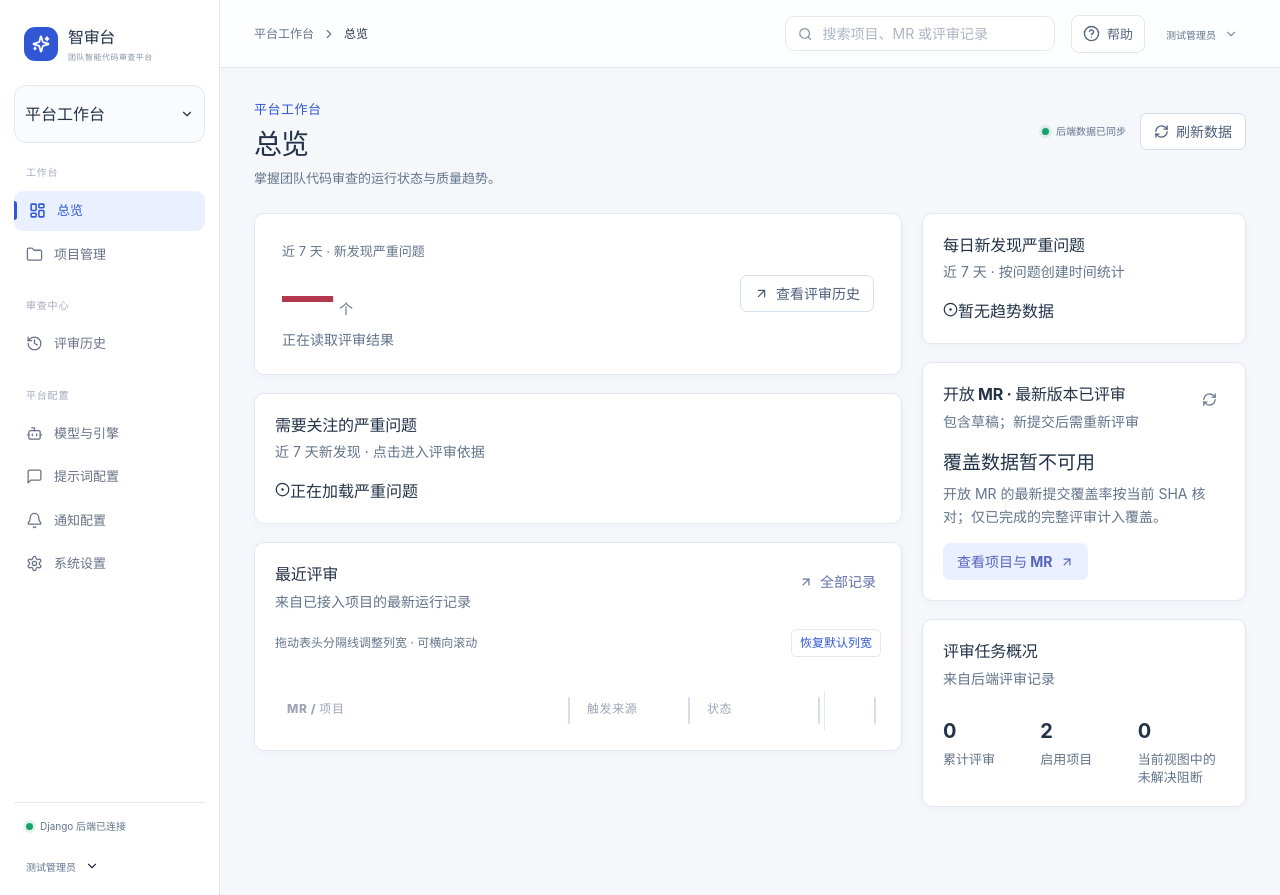
Test: does not replace current project form with a late save response from another project
Check: the text "Django 后端已连接" is shown, box top-left (26, 820), bottom-right (126, 832)
Click the button "模型与引擎".
click(110, 433)  # box top-left (14, 414), bottom-right (205, 453)
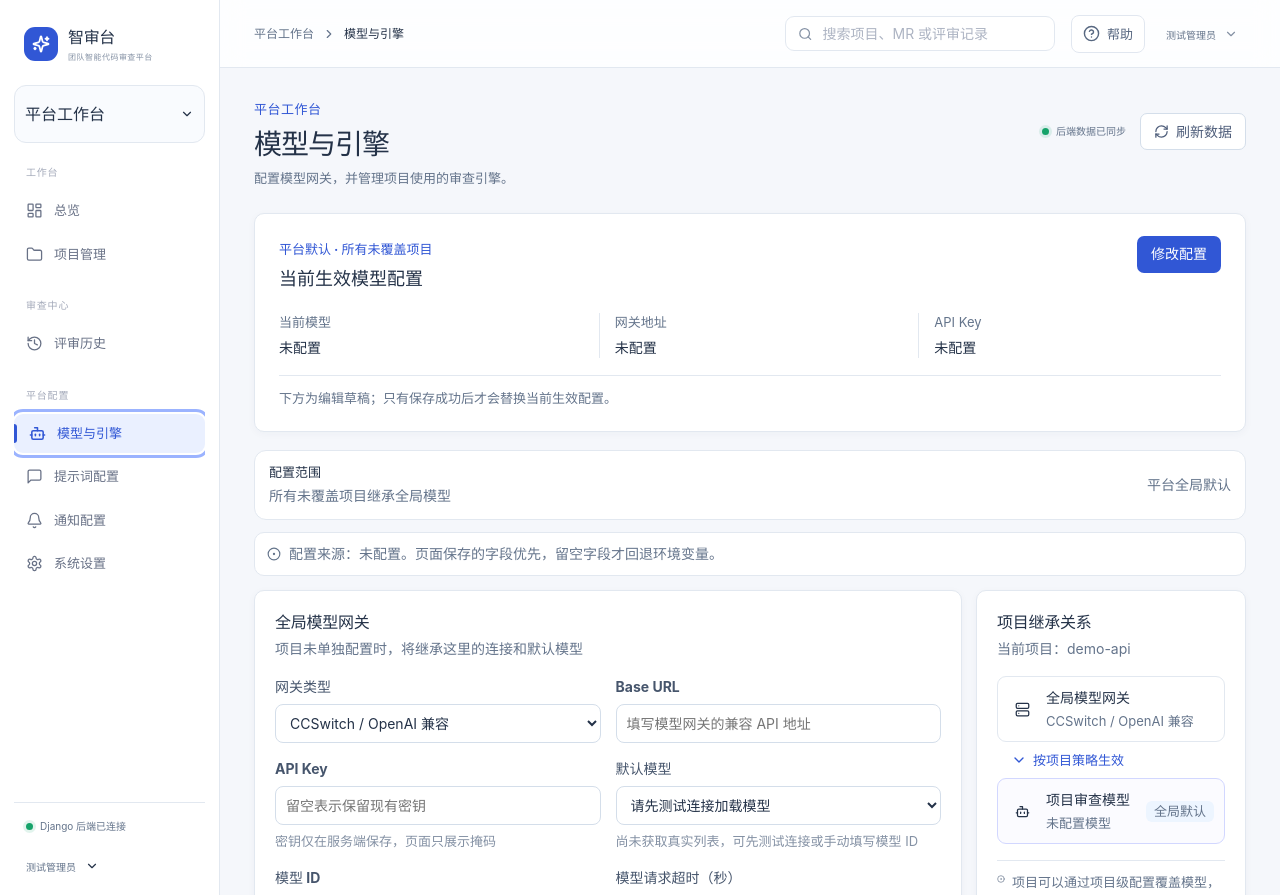
Click the button with aria-label "切换项目".
click(110, 114)  # box top-left (14, 85), bottom-right (205, 143)
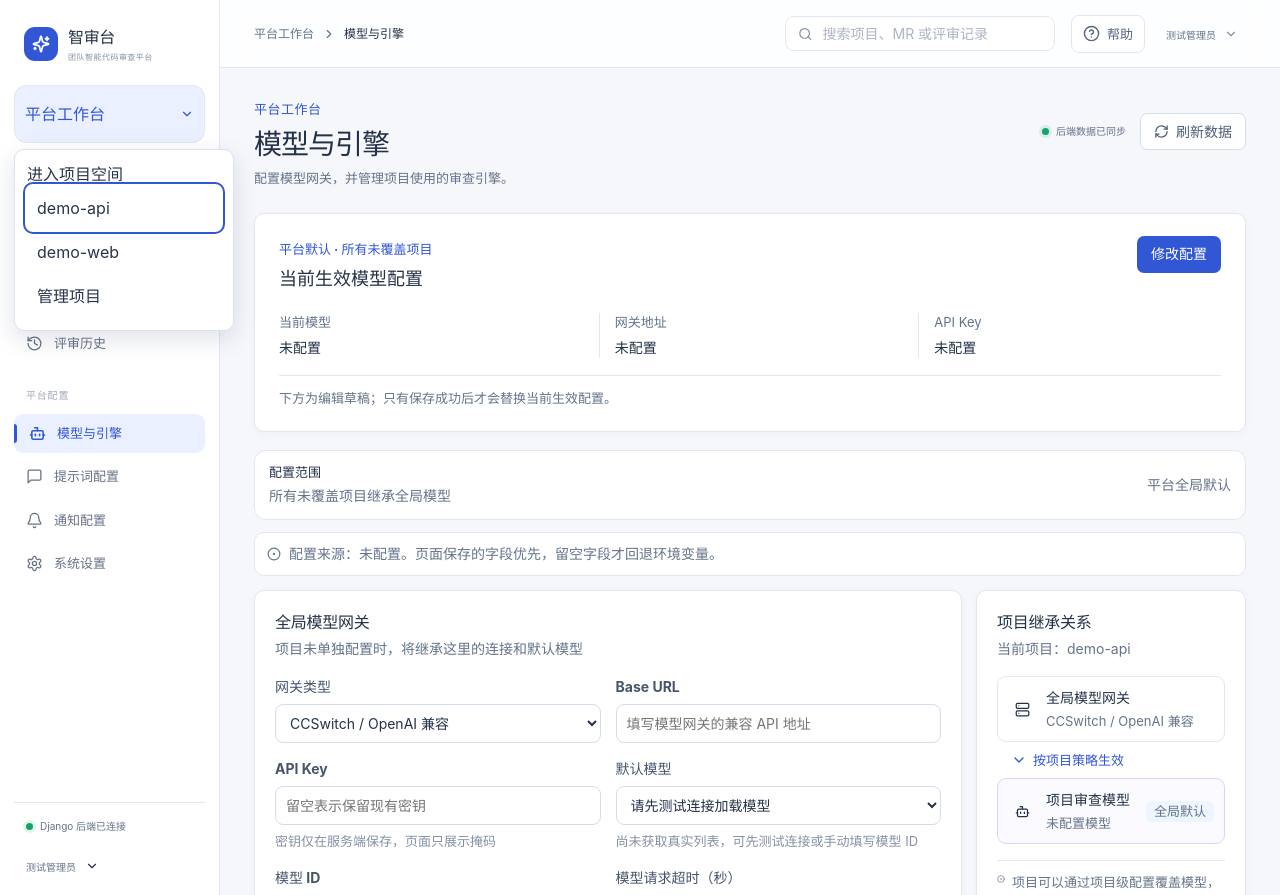
Click the button "demo-api".
click(124, 208)  # box top-left (27, 186), bottom-right (221, 230)
(page scrolled)
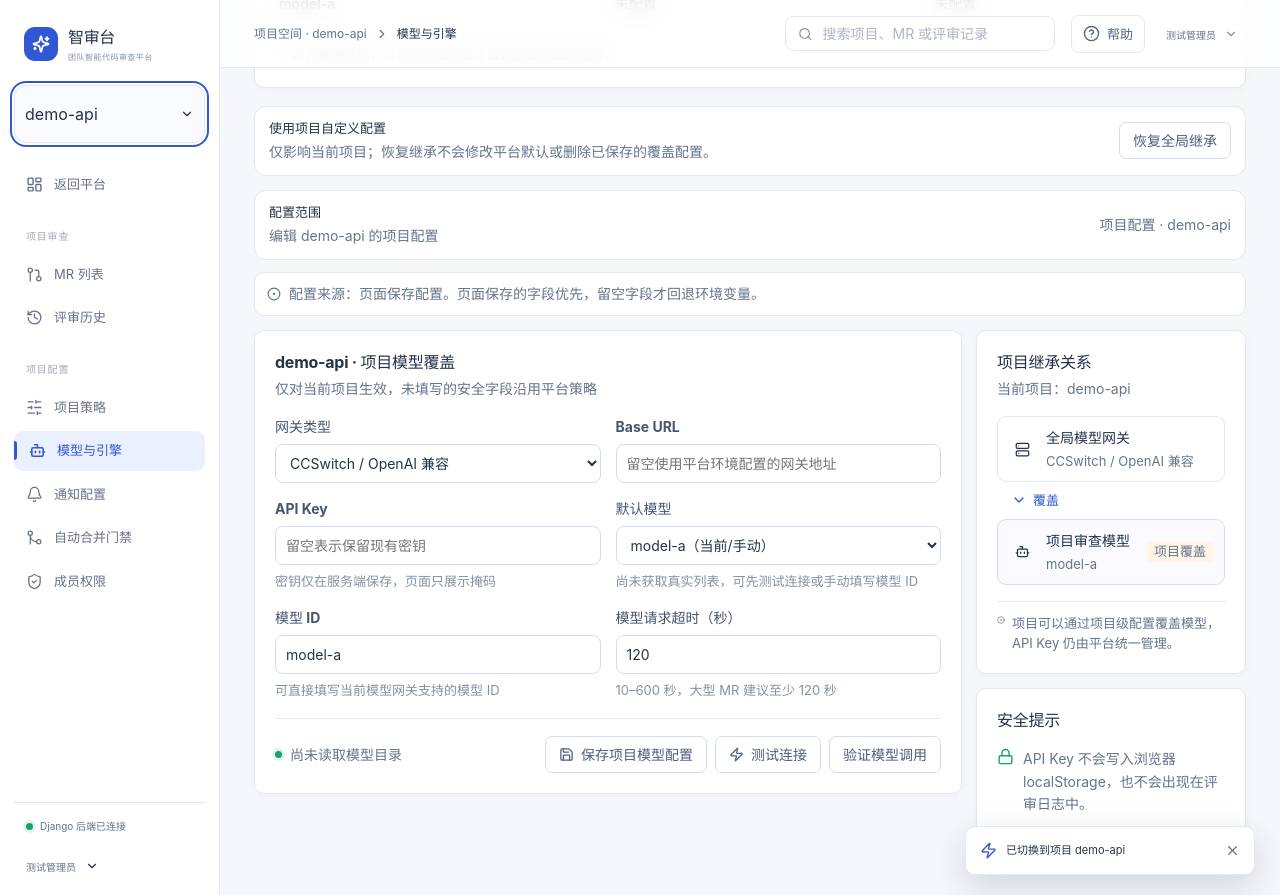
Check: the field labelled "模型 ID" holds "model-a", box top-left (275, 635), bottom-right (600, 674)
Click the button "保存项目模型配置".
click(626, 755)  # box top-left (545, 736), bottom-right (707, 773)
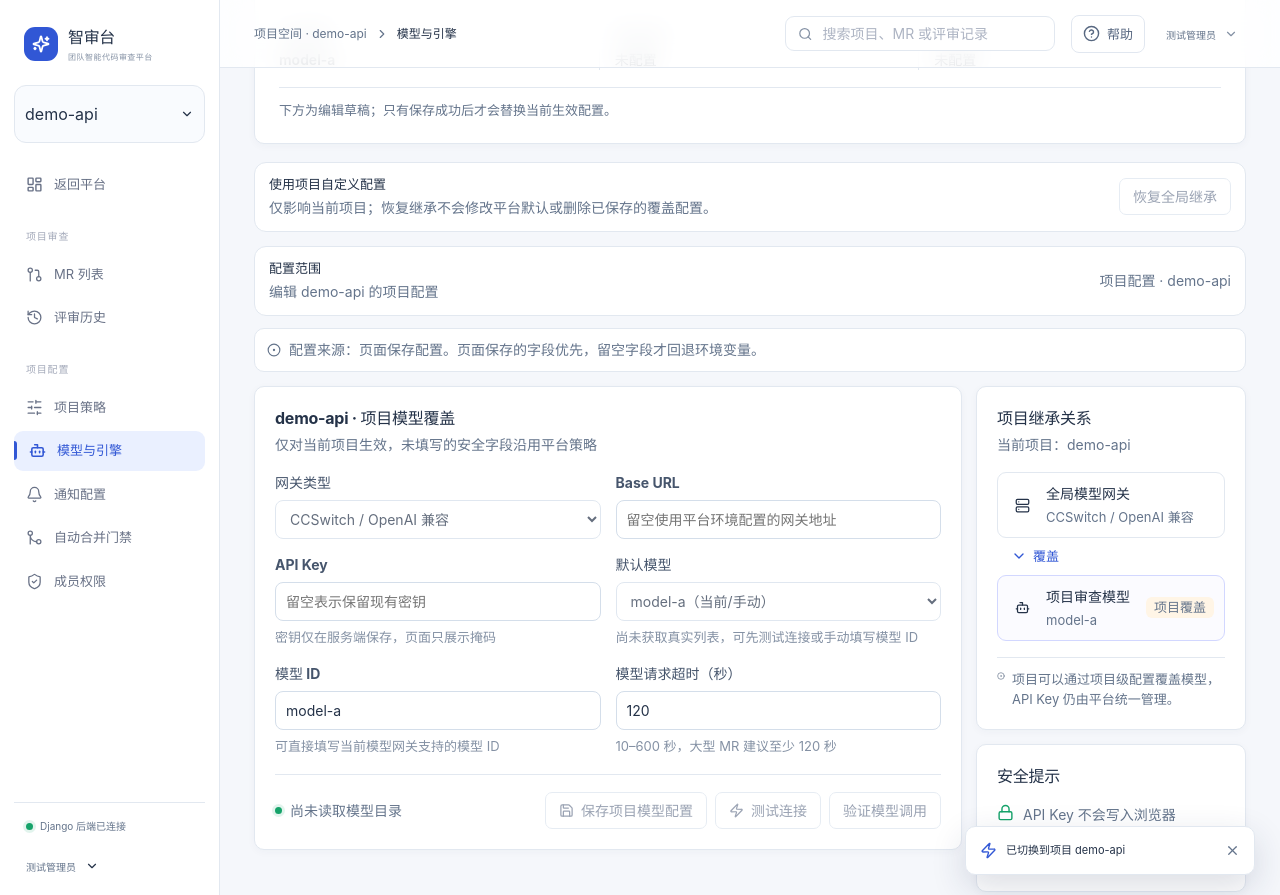
Click the button with aria-label "切换项目".
click(110, 114)  # box top-left (14, 85), bottom-right (205, 143)
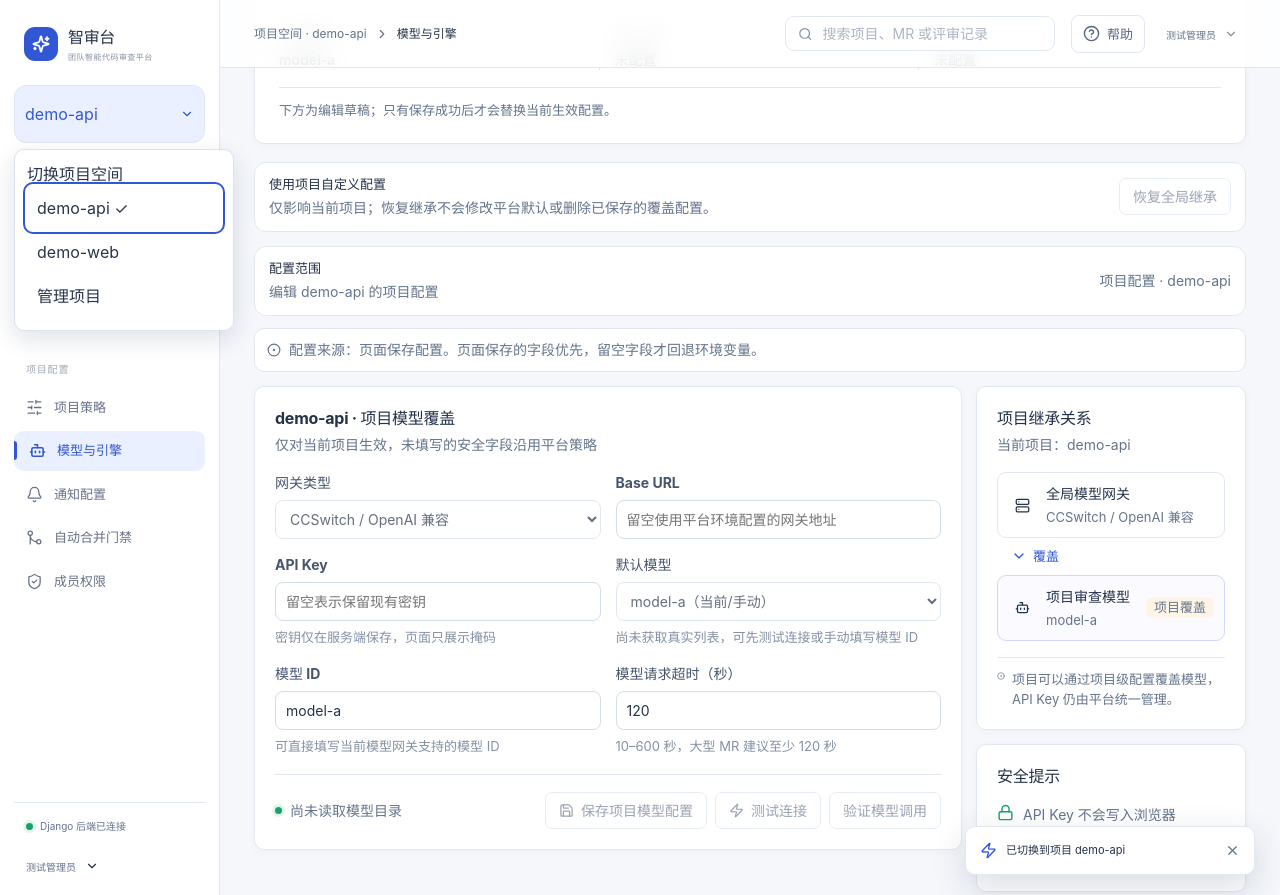
Click the button "demo-web".
click(124, 252)  # box top-left (27, 230), bottom-right (221, 274)
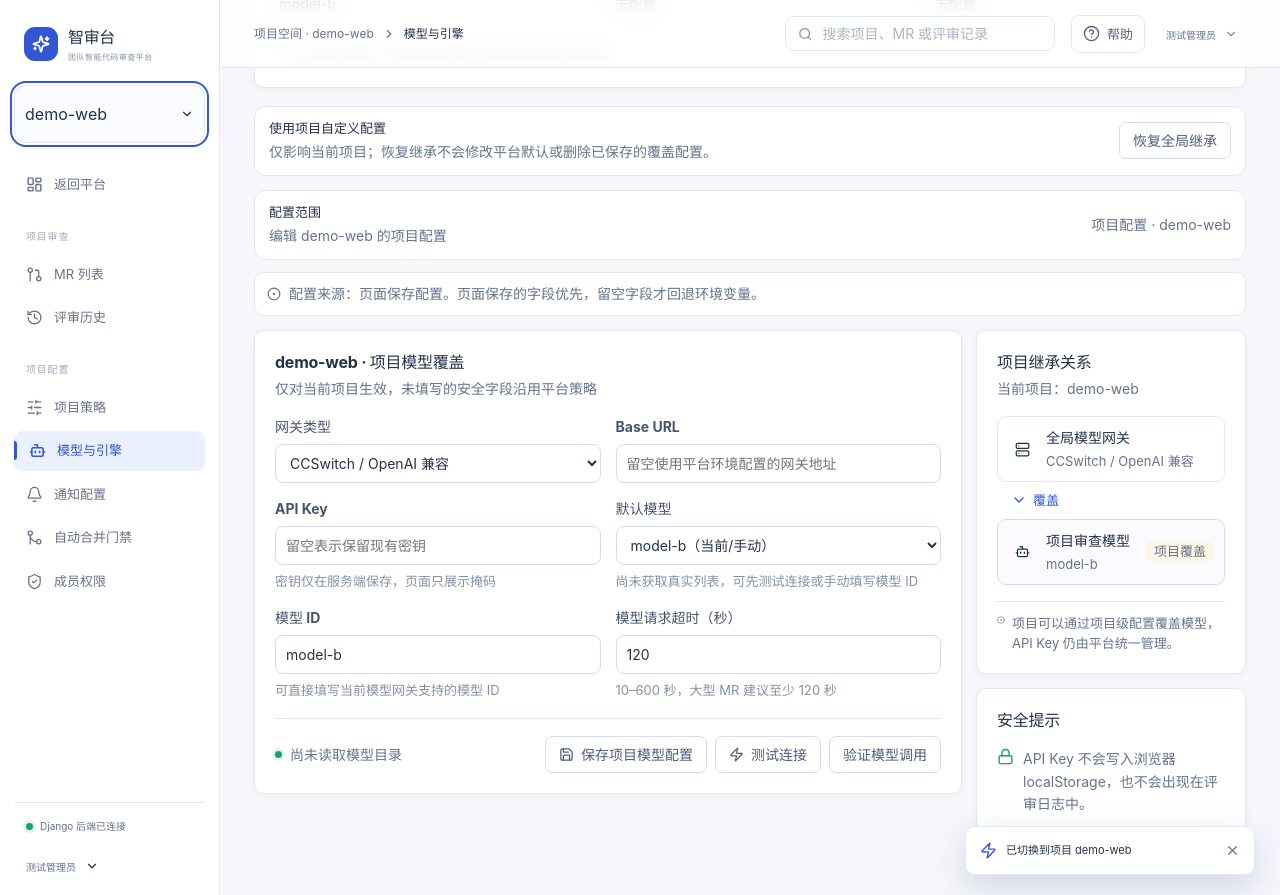
Check: the field labelled "模型 ID" holds "model-b", box top-left (275, 635), bottom-right (600, 674)
